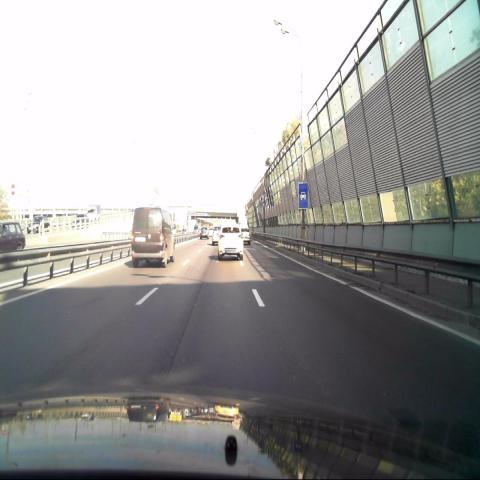5_3: (299, 183, 308, 208)
